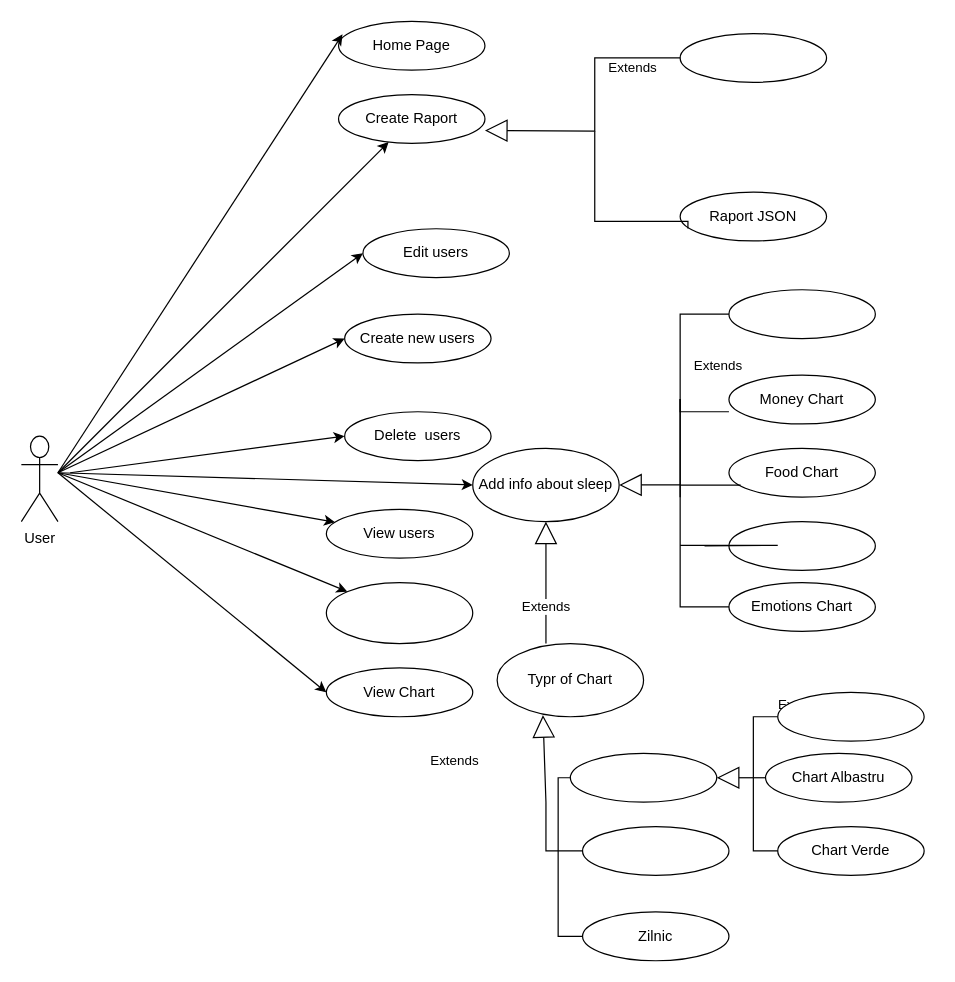
Some shapes in this 955 by 982 pixel diagram are drawn without their labels. The shapes that lost their labels are listed below. From the top down, each one's centre as x and y in pixels, then its label:
the point at 753,57: Raport TXT
the point at 801,314: Animals Chart
the point at 801,545: Family Chart
the point at 399,612: Login/Register
the point at 850,716: Chart Rosu
the point at 643,777: Saptamanal
the point at 655,850: Lunar
